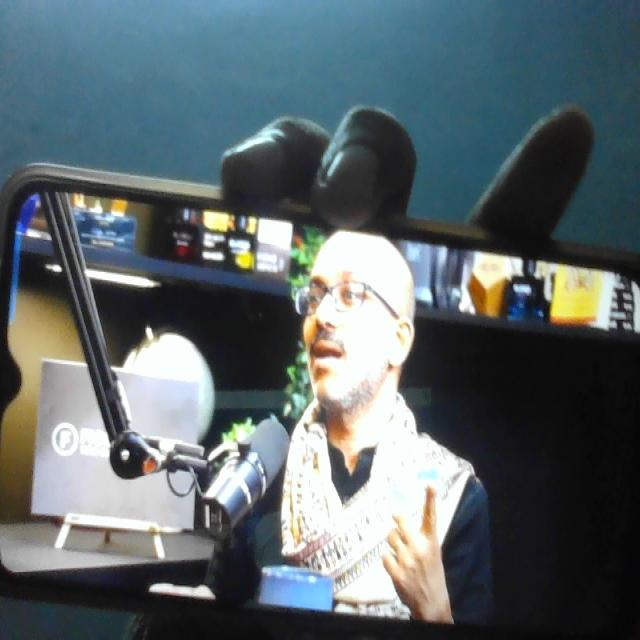fake: (283, 161, 417, 415)
